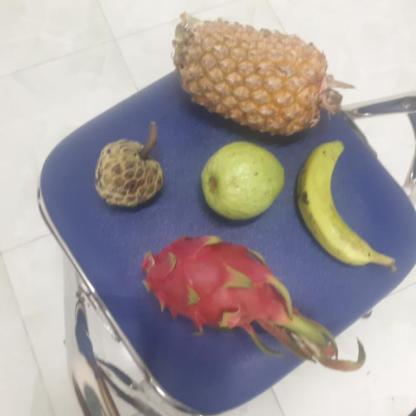annona: (91, 136, 163, 210)
banana: (294, 142, 378, 270)
guava: (198, 142, 283, 220)
pineapple: (173, 22, 328, 137)
pitaya: (134, 234, 288, 330)
